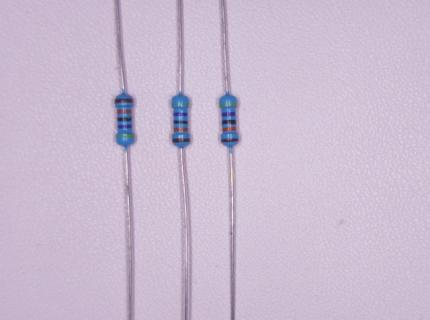Black band: (118, 117, 132, 122), (174, 120, 188, 124), (222, 120, 236, 124)
Brown band: (115, 98, 133, 103), (173, 138, 190, 143), (222, 138, 238, 142)
Orange band: (223, 127, 236, 132), (174, 127, 188, 131), (118, 110, 131, 114)
Violet band: (118, 124, 132, 129), (174, 112, 188, 117), (221, 112, 236, 116)
Yellow band: (117, 134, 134, 138), (220, 102, 236, 106), (172, 103, 189, 106)
